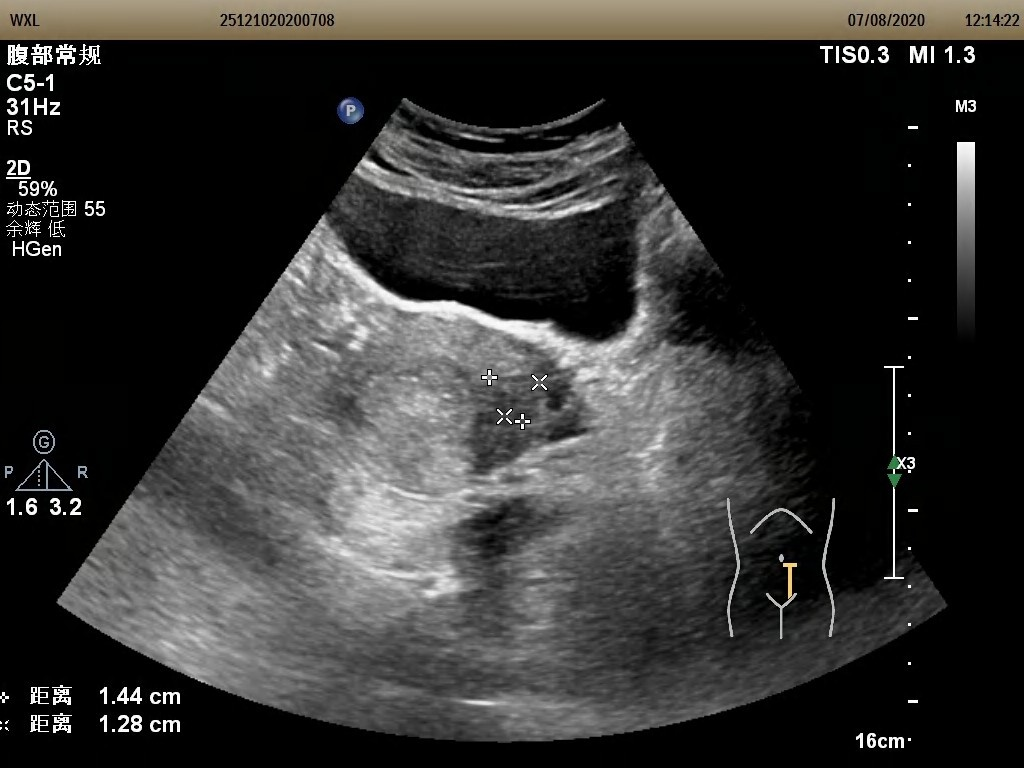肌瘤: (488, 378, 542, 422)
